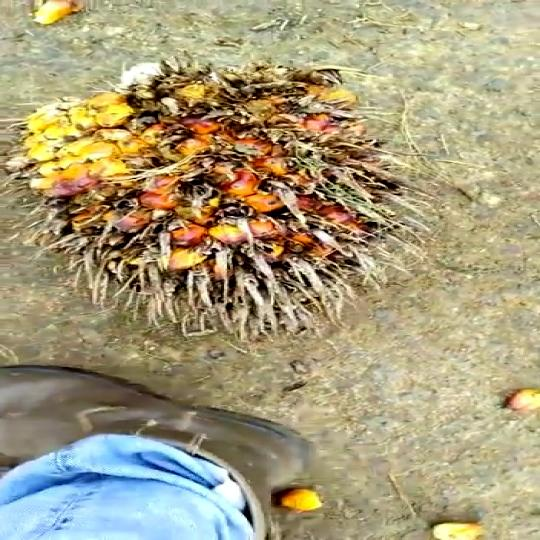terlalu masak: (21, 60, 400, 328)
